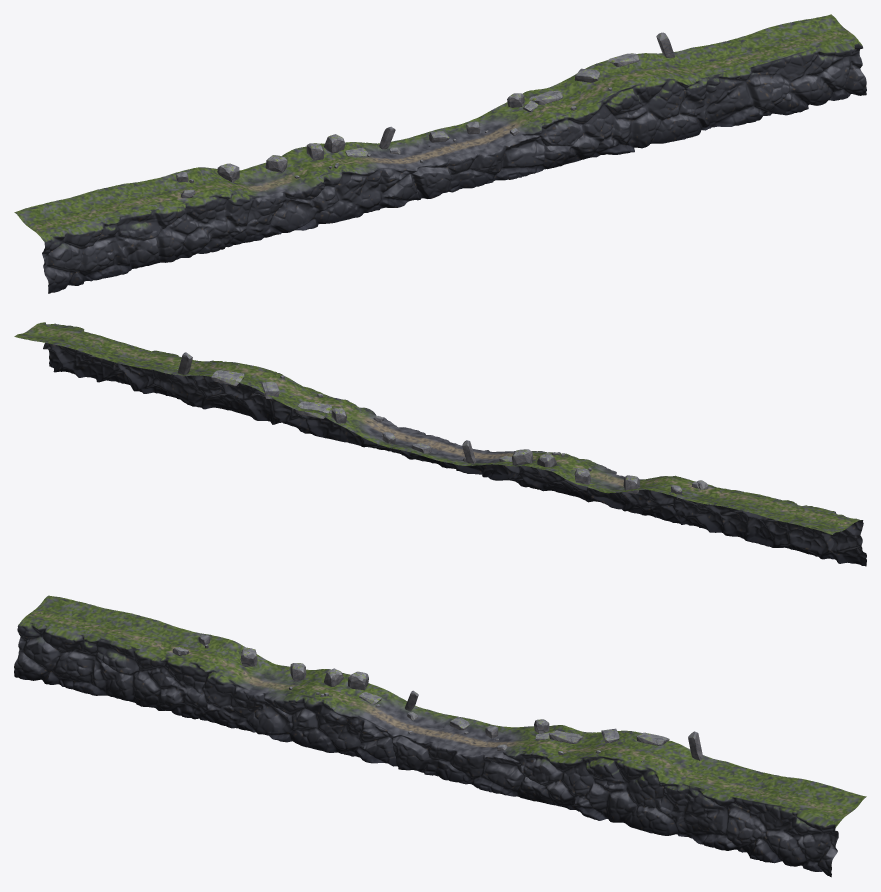
File: crashwood-path.glb
3 views of the same model, one above another, from view 1: azimuth 30°, elevation 25°; view 2: azimuth 150°, elevation 25°; view 3: azimuth 330°, elevation 25° (orthographic).
Visible parts, largest first — view 1: Terrain_Export; view 2: Terrain_Export; view 3: Terrain_Export.
Boxes of the visible parts, x1,y1,x2,y2 form: Terrain_Export: (14, 14, 866, 293); Terrain_Export: (14, 322, 866, 566); Terrain_Export: (14, 595, 866, 877).
Size of the model in its own units: 88 by 8.19 by 7.07.
10 materials, 9 textured.
